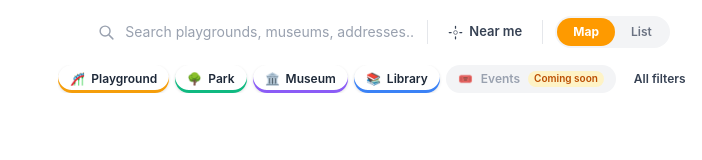
SearchField combobox keyboard navigation (#482) › Enter selects the active item result
In the dropdown with placeholder "Search playgrounds, museums, addresses…": (270,32) [125,22,415,42], type "first"
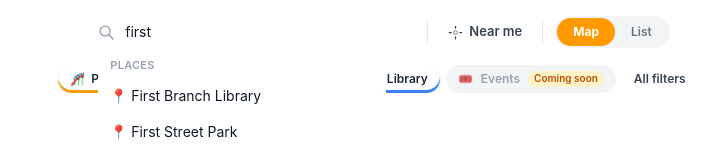
Press ArrowDown in the dropdown with placeholder "Search playgrounds, museums, addresses…", box [125,22,415,42]
Press Enter in the dropdown with placeholder "Search playgrounds, museums, addresses…", box [125,22,415,42]
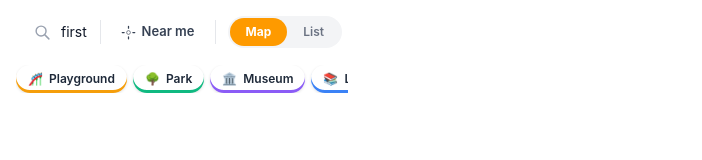
Result: the list is gone
